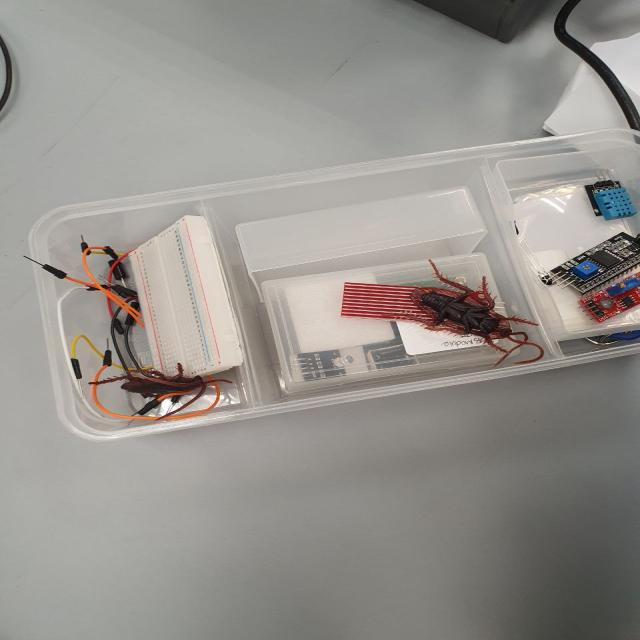Cockroach: (398, 253, 542, 371), (91, 358, 206, 398)
